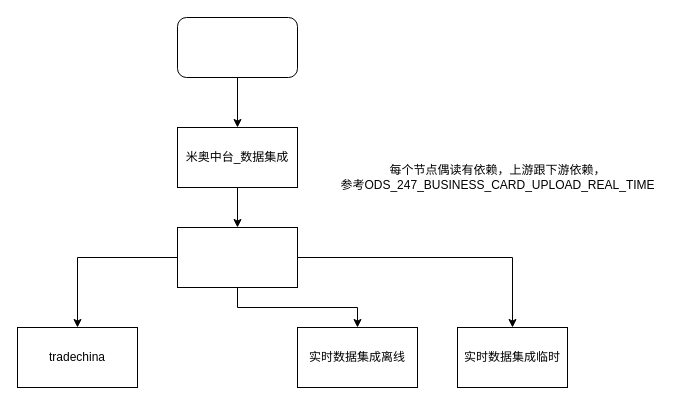
Some shapes in this 685 by 405 pixel diagram are drawn without their labels. The centre of each missing label's shape, as x and y in pixels:
开始: (237,47)
数据集成: (237,257)
